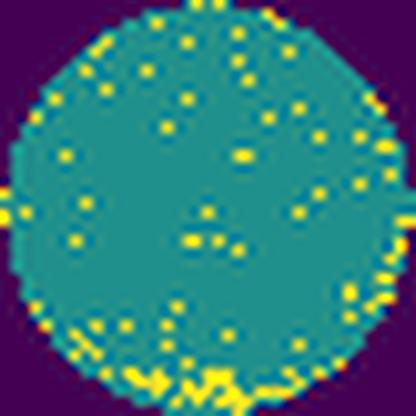Edge-Loc: (181, 366, 256, 413), (121, 366, 170, 397)
